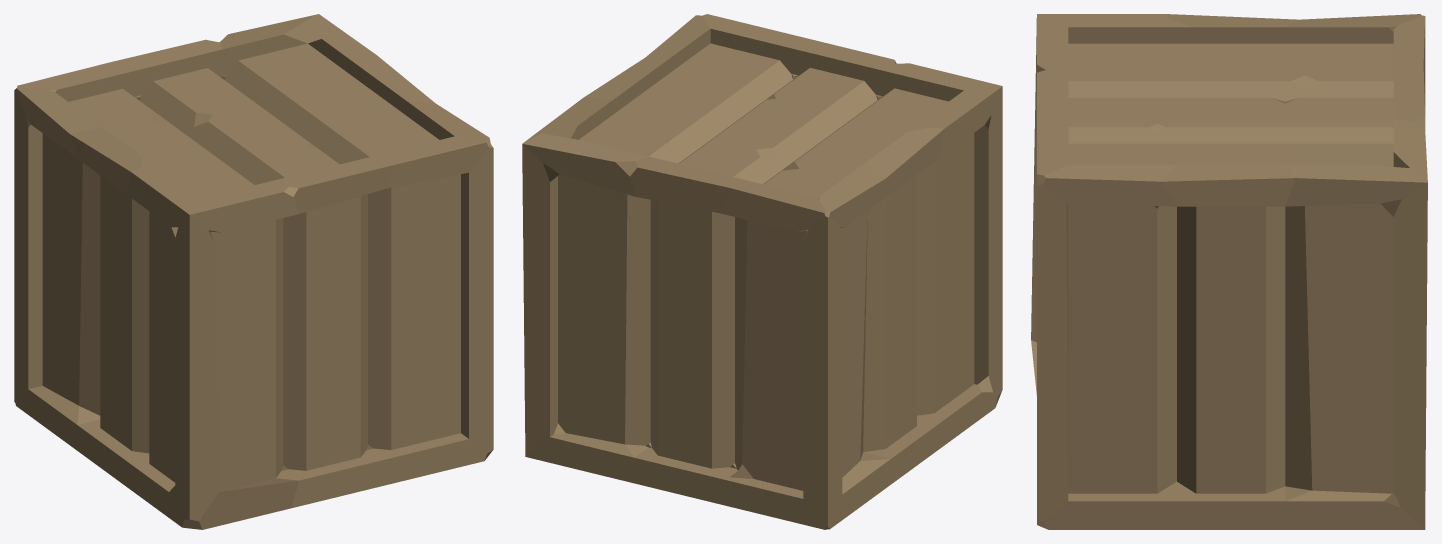
File: Crate.fbx
3 views of the same model, side by side, from view 1: azimuth 30°, elevation 25°; view 2: azimuth 150°, elevation 25°; view 3: azimuth 270°, elevation 25° (orthographic). The views are drawn at different scales.
Parts seen in each view (by area): view 1: Crate; view 2: Crate; view 3: Crate.
Part boxes in pixels (x1,y1,x2,y2): Crate: (14,14,493,529); Crate: (522,14,1002,529); Crate: (1031,14,1427,529).
Bounding box in the file's own units: 202 × 203 × 204.
